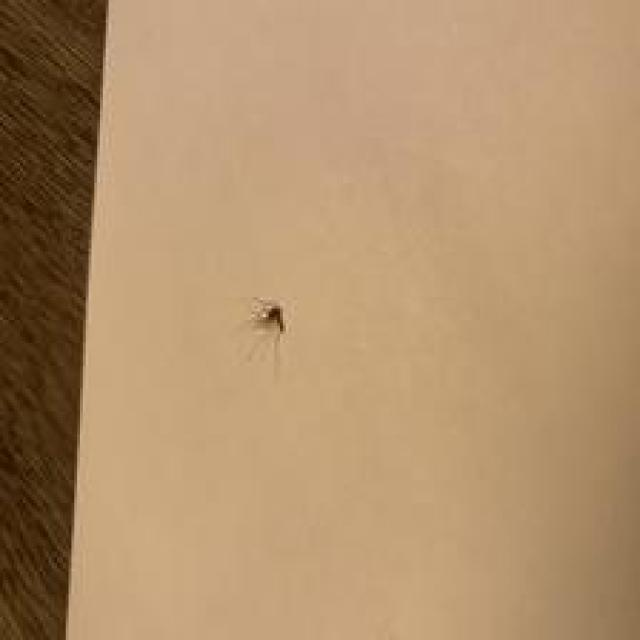Culex: (248, 297, 286, 334)
